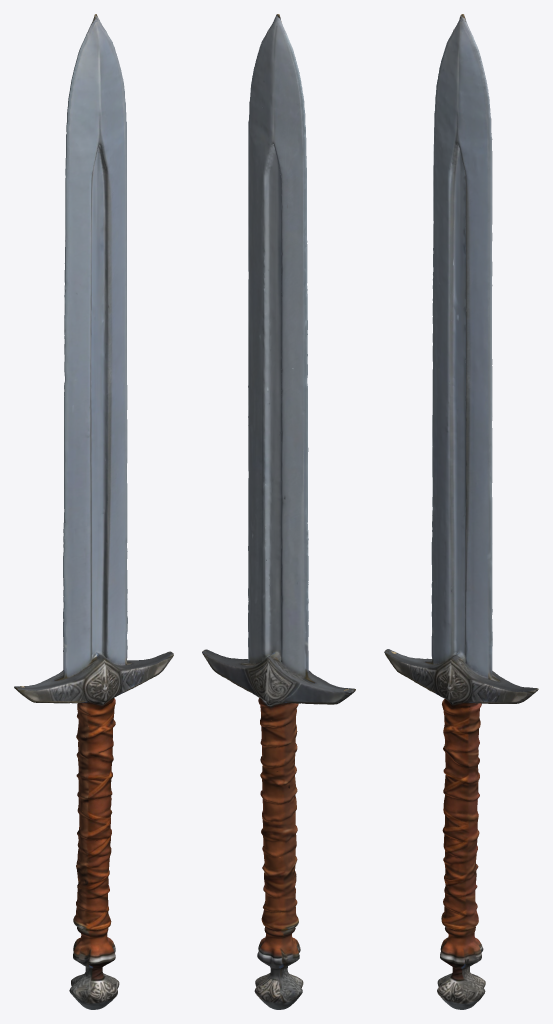
File: sword_1101063141_texture.fbx
The picture shows the model from 3 angles, left to right: view 1: azimuth 30°, elevation 25°; view 2: azimuth 150°, elevation 25°; view 3: azimuth 330°, elevation 25°; orthographic projection.
Parts seen in each view (by area): view 1: input; view 2: input; view 3: input.
Part boxes in pixels (bbox=[...]): input: bbox=[14, 14, 173, 1009]; input: bbox=[202, 14, 355, 1009]; input: bbox=[384, 14, 538, 1009].
Size of the model in its own units: 30.96 by 190 by 8.52.
1 material, 1 textured.
